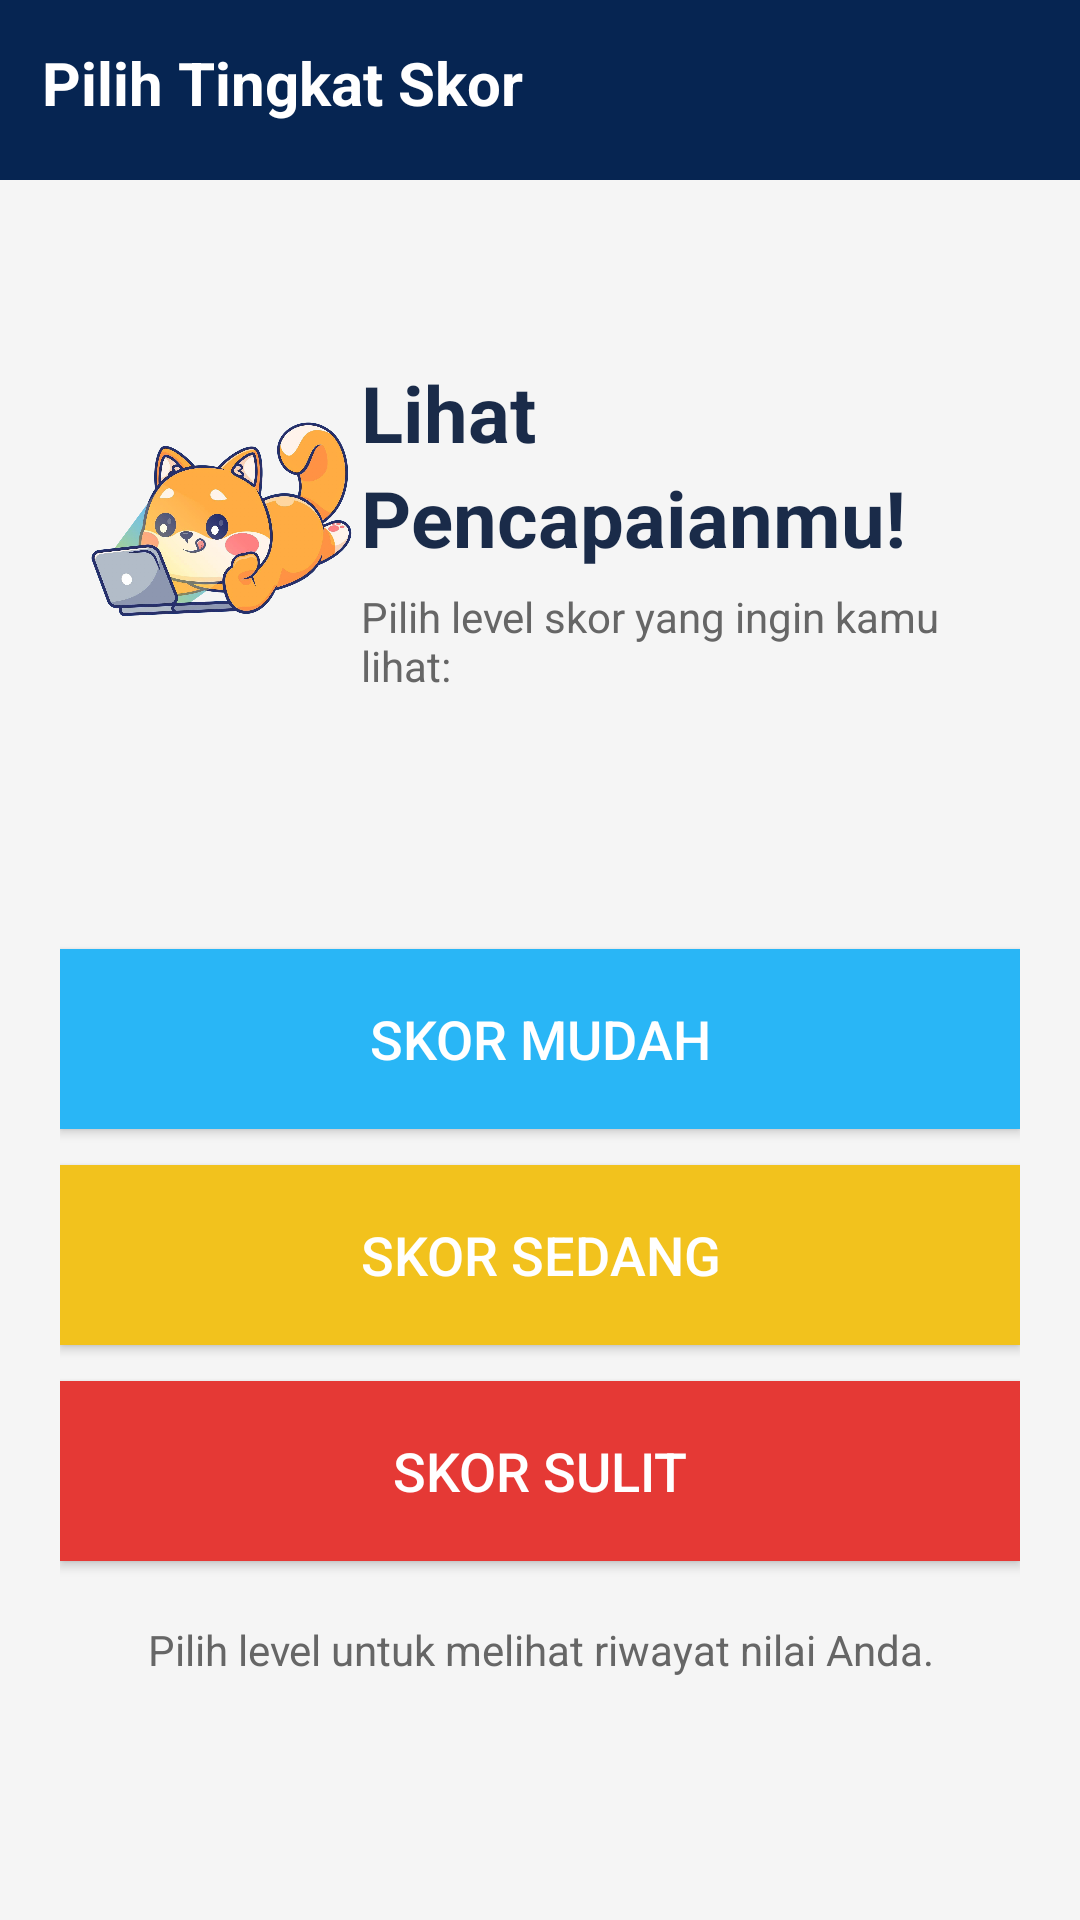

Screen size 1080px×1920px. Icon name, then its center in pixels as (x,y):
maskot: (238,552)
